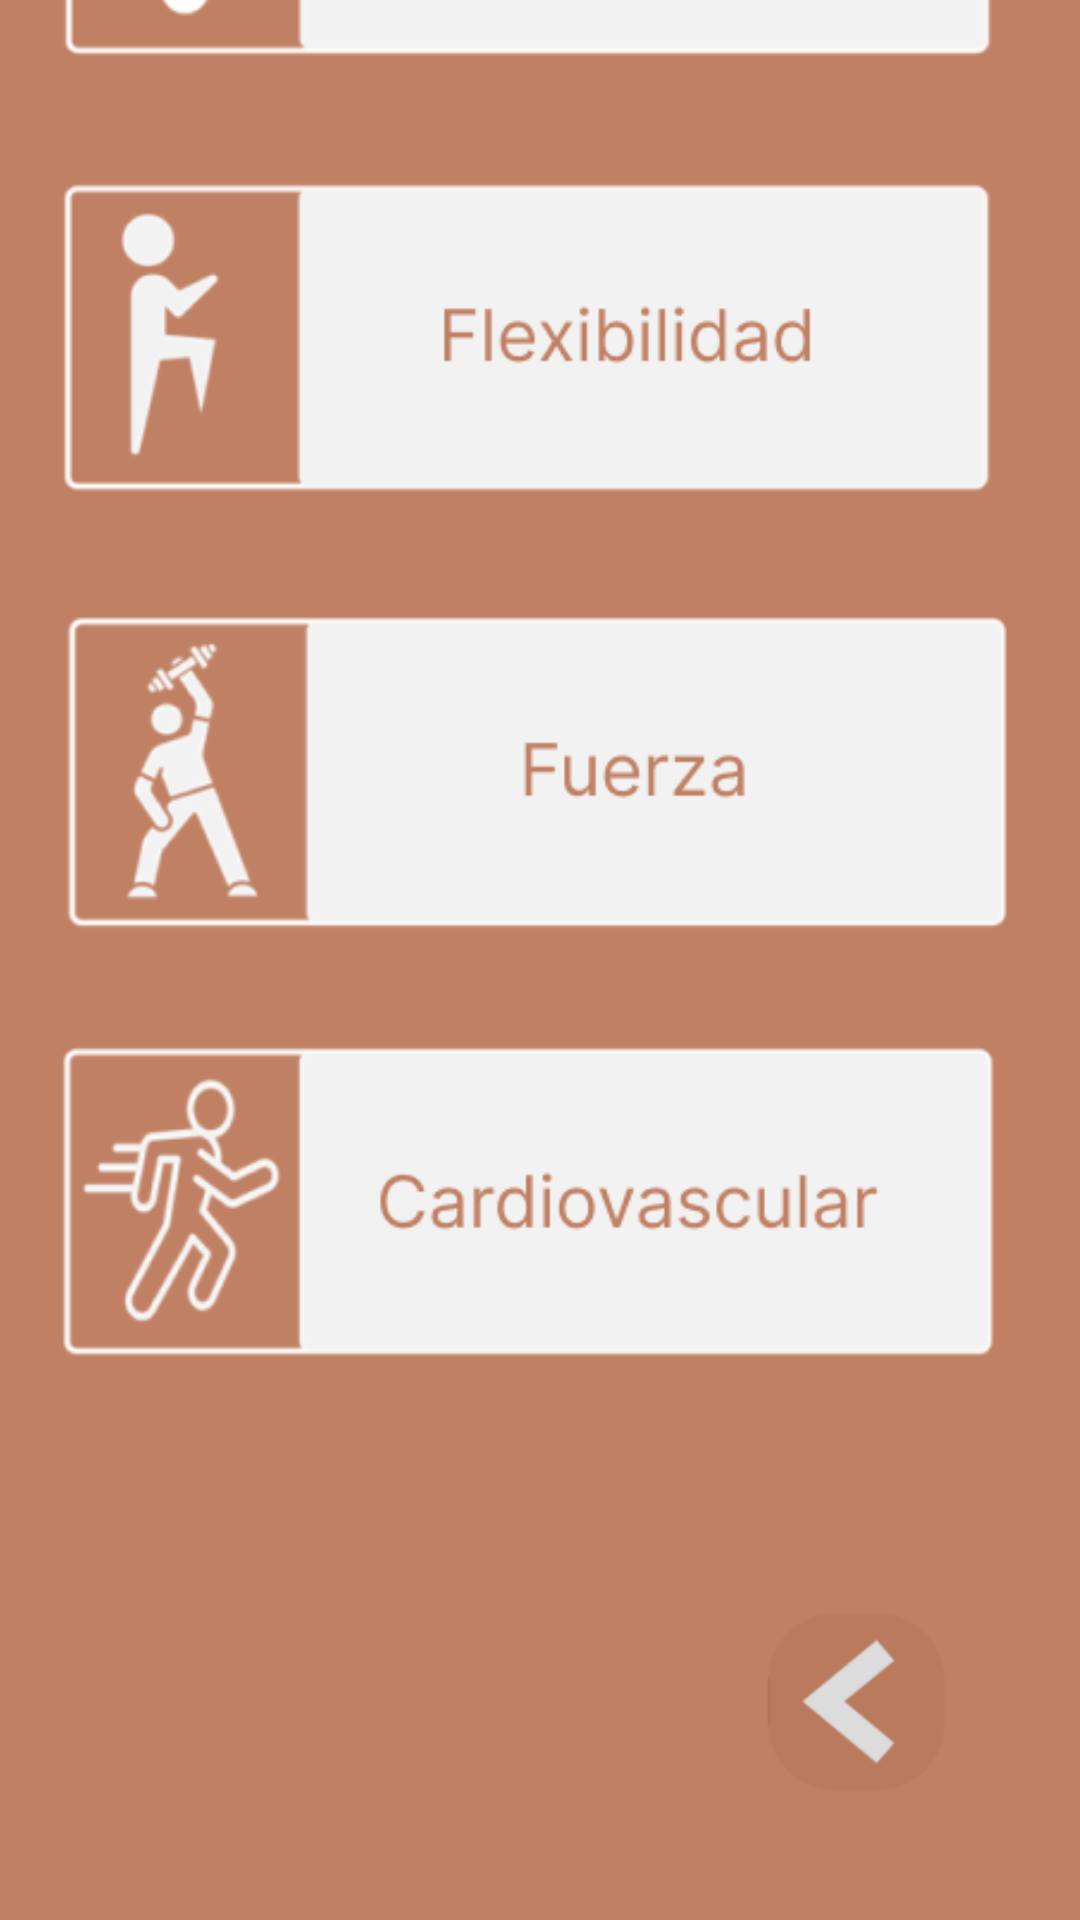

Icon bounding boxes for this 1080x1920 phone screenshot, format (x1, y1, x2, y2):
regresar: (803, 1640, 894, 1763)
